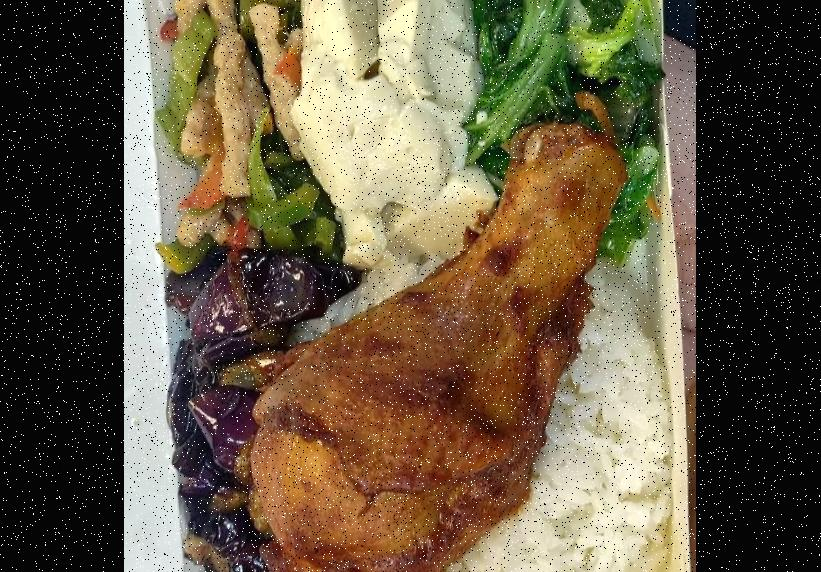box: (136, 0, 696, 572)
honey grilled chicken leg: (250, 122, 626, 572)
side dish: (159, 250, 309, 572), (303, 0, 477, 257), (462, 0, 652, 233), (147, 0, 311, 268)
white rice: (285, 242, 670, 572)
